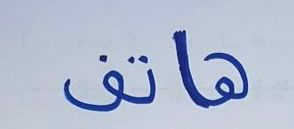alef: (170, 27, 201, 110)
feh: (62, 50, 125, 114)
heh: (203, 48, 250, 111)
noon: (126, 53, 158, 107)
